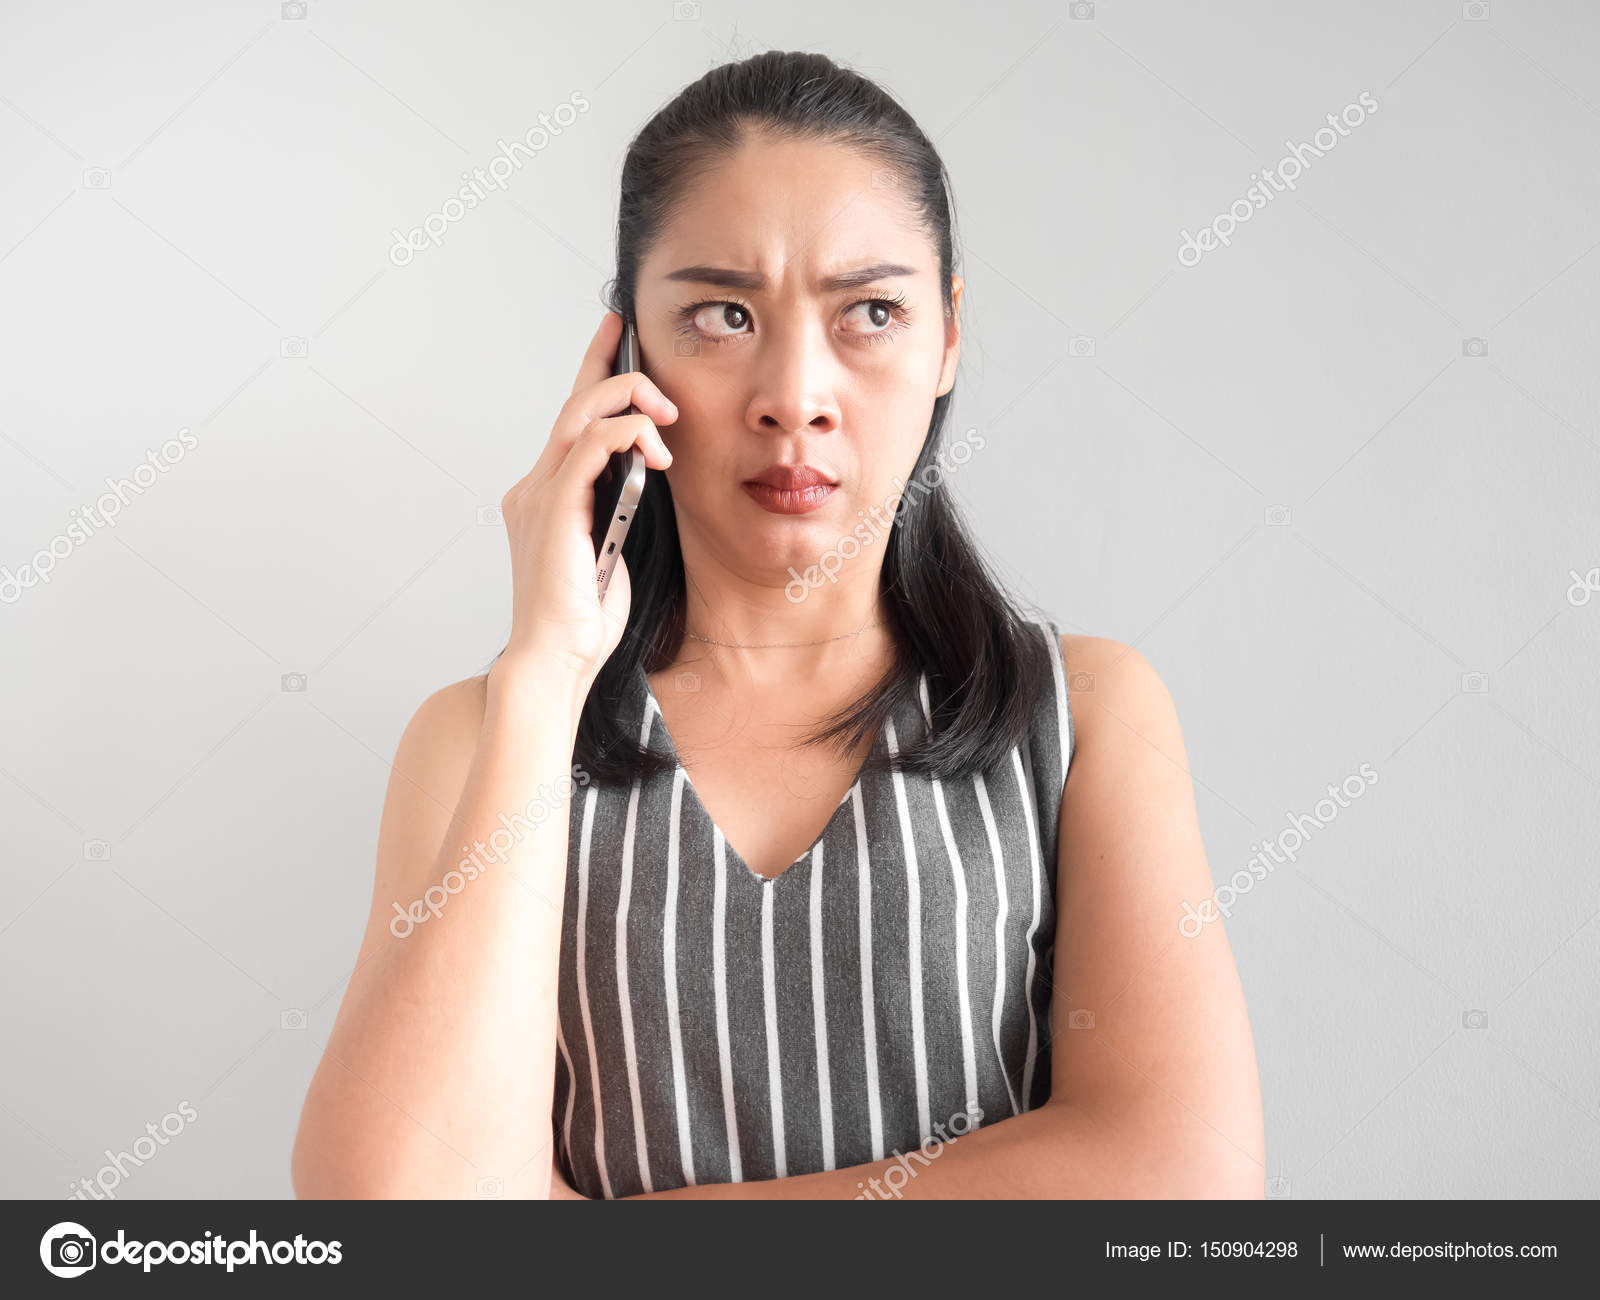phone: (495, 302, 685, 602)
talk: (498, 263, 941, 625)
